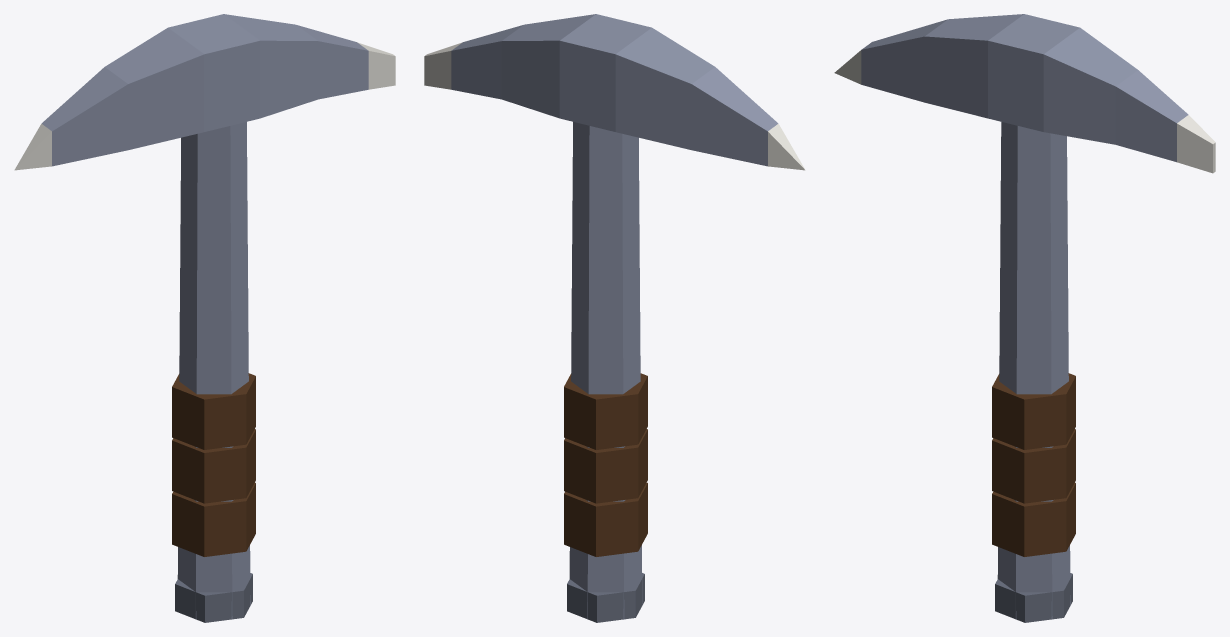
The model's file is wpn_pickaxe_iron_01.fbx.
The picture shows the model from 3 angles, left to right: view 1: azimuth 30°, elevation 25°; view 2: azimuth 150°, elevation 25°; view 3: azimuth 330°, elevation 25°; orthographic projection.
Visible parts, largest first — view 1: wpn_pickaxe_iron_01; view 2: wpn_pickaxe_iron_01; view 3: wpn_pickaxe_iron_01.
Part boxes in pixels (x1=…): wpn_pickaxe_iron_01: x1=14, y1=14, x2=395, y2=622; wpn_pickaxe_iron_01: x1=424, y1=14, x2=805, y2=622; wpn_pickaxe_iron_01: x1=834, y1=14, x2=1215, y2=622.
Bounding box in the file's own units: 0.409 × 0.0783 × 0.588.
1 material, 1 textured.
